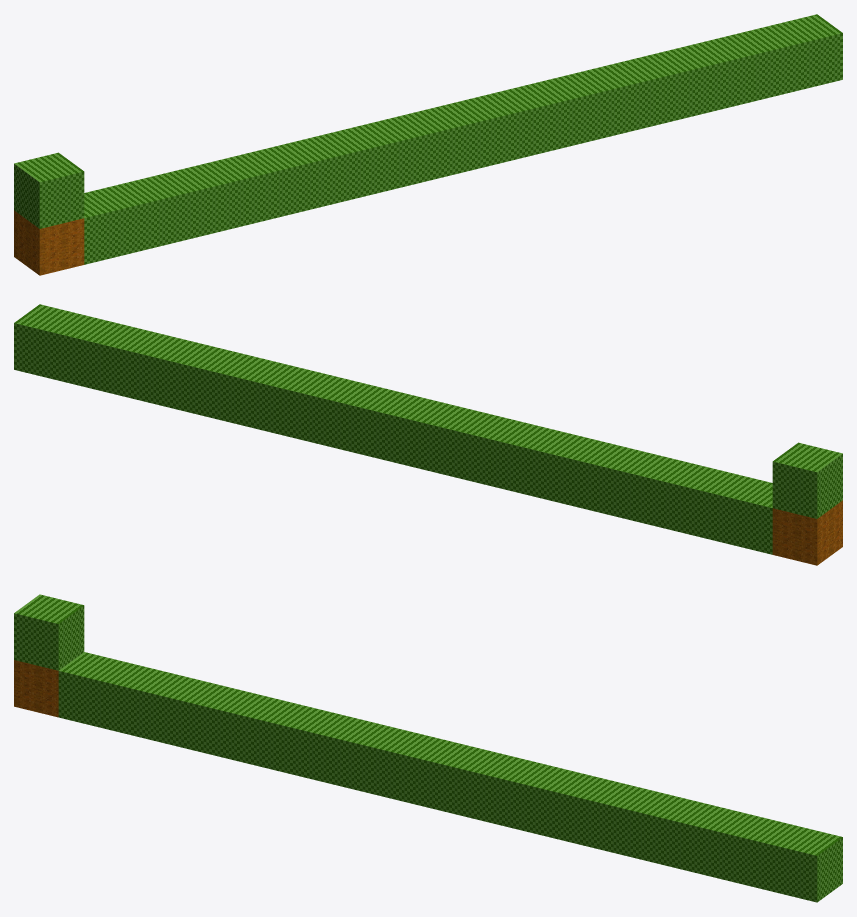
File: deletestage03.fbx
3 renders of one model, top to bottom at view 1: azimuth 30°, elevation 25°; view 2: azimuth 150°, elevation 25°; view 3: azimuth 330°, elevation 25°, orthographic.
Parts seen in each view (by area): view 1: polymsh36; view 2: polymsh36; view 3: polymsh36.
Part boxes in pixels (bbox=[...]): polymsh36: bbox=[14, 14, 842, 275]; polymsh36: bbox=[14, 304, 842, 565]; polymsh36: bbox=[14, 594, 842, 902].
Size of the model in its own units: 1426 by 158 by 79.2.
